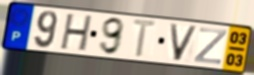9: (32, 9, 62, 50), (97, 16, 127, 56)
H: (58, 13, 95, 53)
T: (131, 18, 160, 60)
V: (168, 22, 200, 63)
Z: (192, 27, 230, 67)
